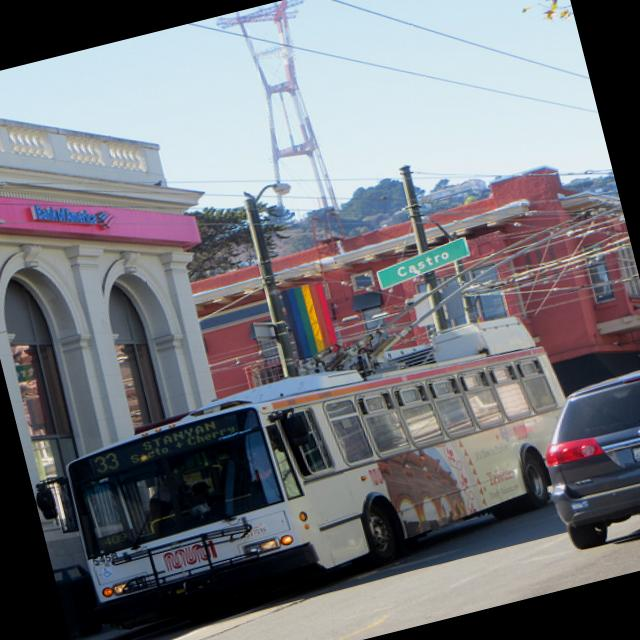Vehicle: (18, 302, 596, 640), (524, 363, 640, 553)
